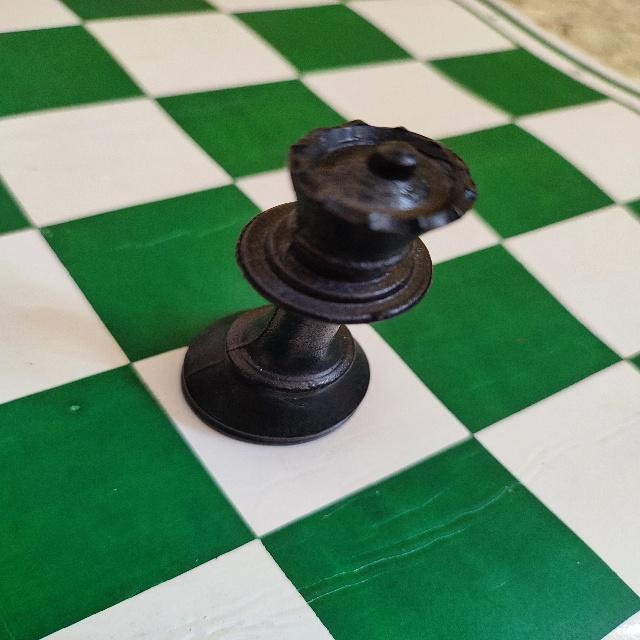Queen: (178, 111, 483, 451)
